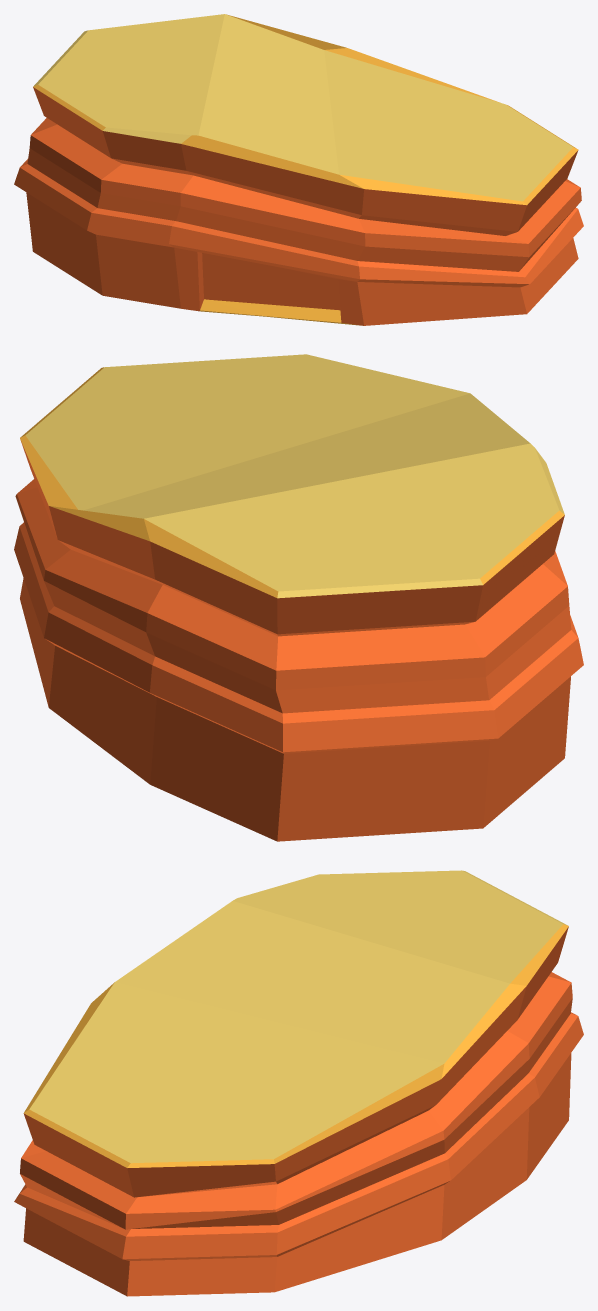
The picture shows the model from 3 angles, top to bottom: view 1: azimuth 30°, elevation 25°; view 2: azimuth 150°, elevation 25°; view 3: azimuth 270°, elevation 25°; orthographic projection. The views are drawn at different scales.
Parts seen in each view (by area): view 1: Plane Main.003; view 2: Plane Main.003; view 3: Plane Main.003.
Boxes of the visible parts, box(x1,y1,x2,y2) form: Plane Main.003: box(14, 14, 583, 325); Plane Main.003: box(14, 354, 583, 841); Plane Main.003: box(14, 870, 583, 1296).
Size of the model in its own units: 1221 by 481 by 1218.
